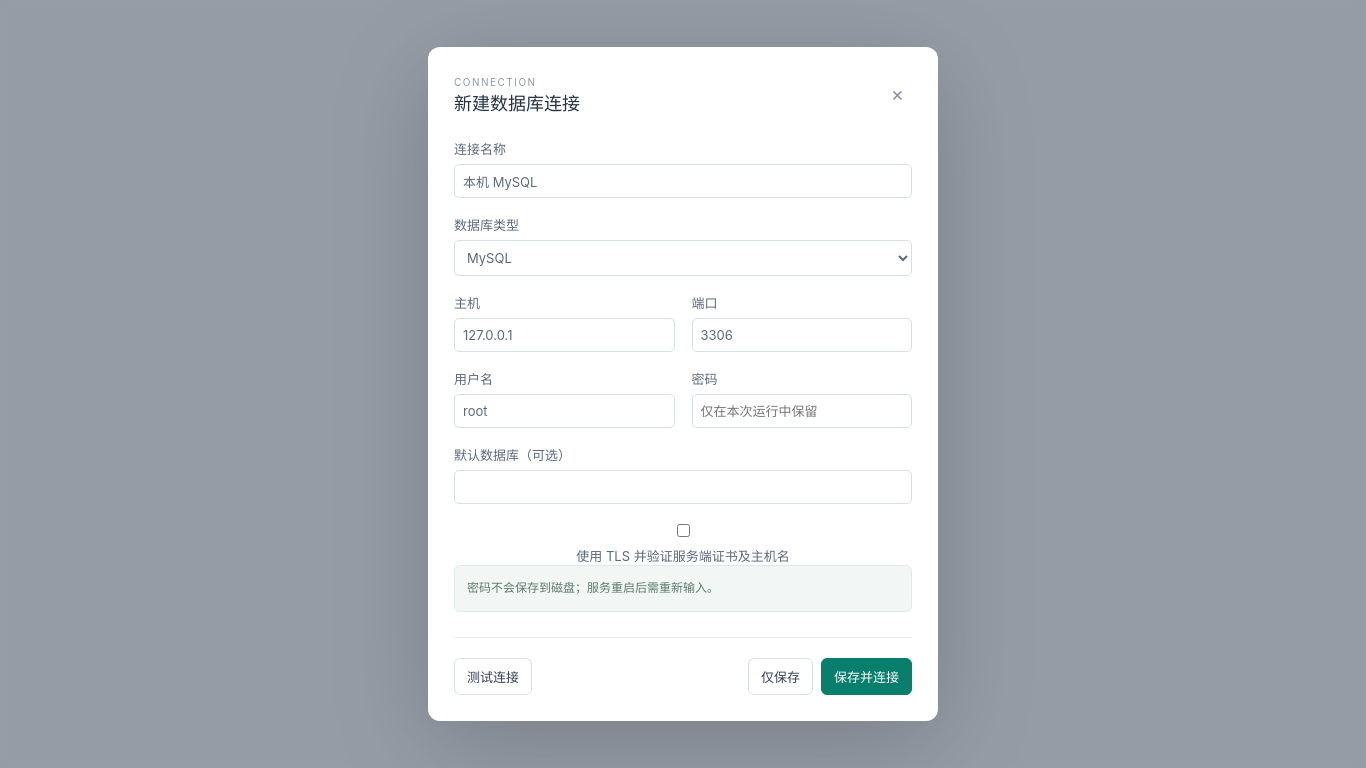
Scenario: connection types show only their relevant fields and correct default ports
This screenshot has width=1366, height=768.
Step 1. Select "SQLite" in the dropdown labelled "数据库类型" → (683, 258), box [454,240,912,276]
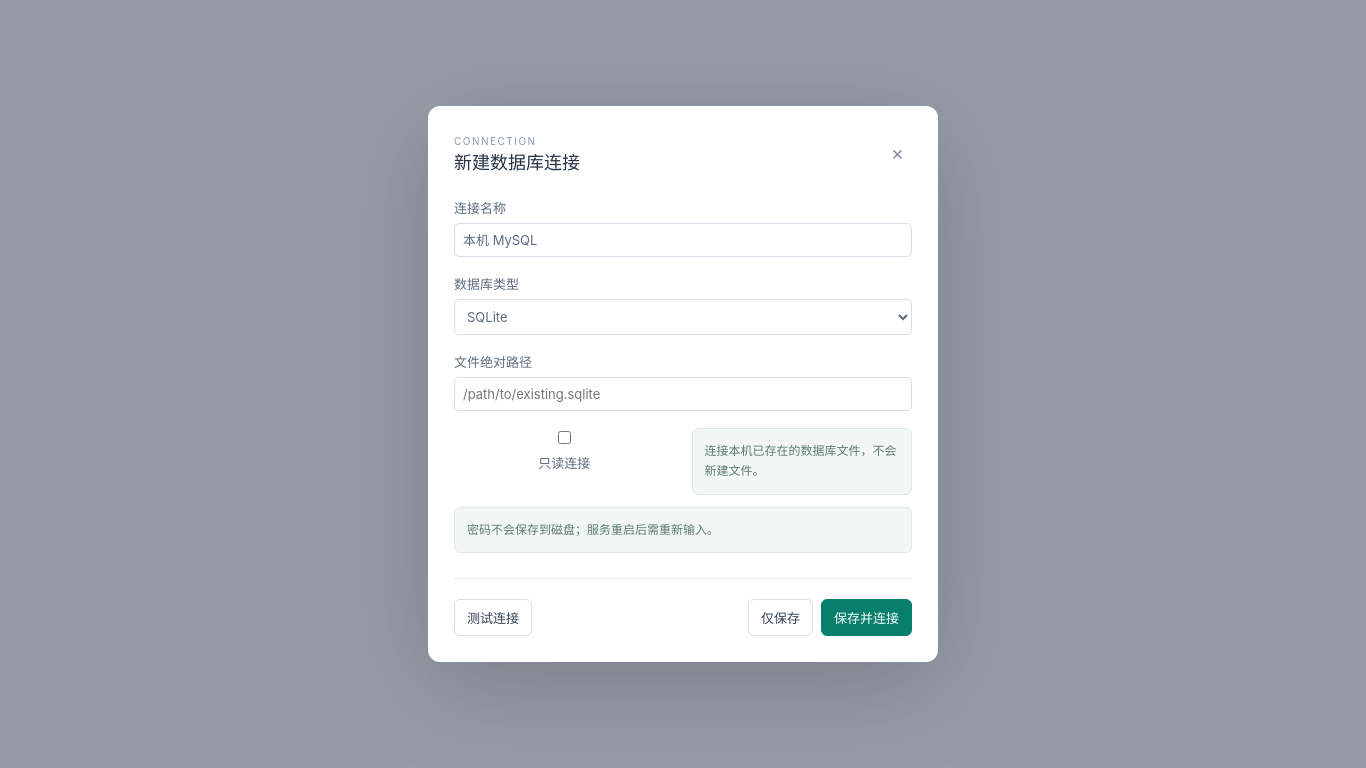
Expected: the field labelled "文件绝对路径" is shown, [454,377,912,411]
Now the label labelled "主机" is gone
Step 2. Select "PostgreSQL" in the dropdown labelled "数据库类型" → (683, 317), box [454,299,912,335]
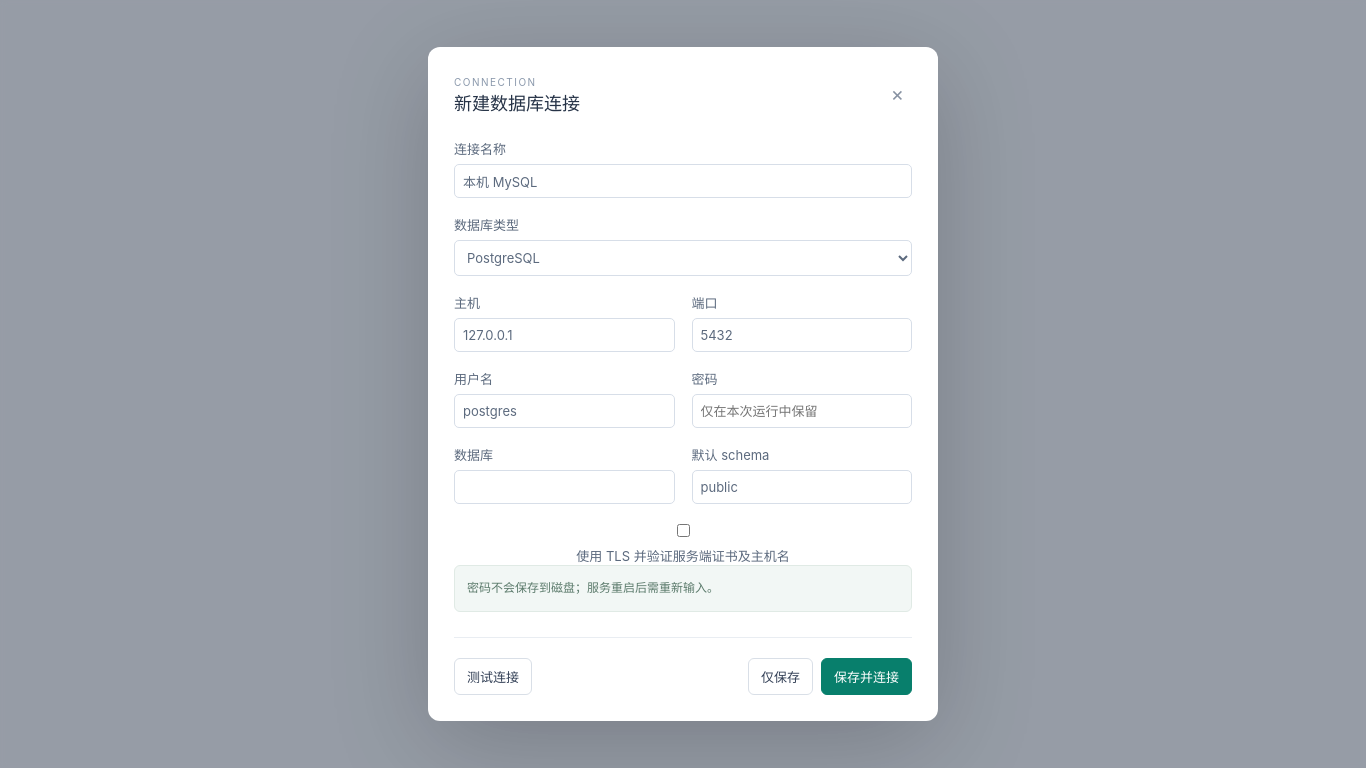
Expected: the field labelled "数据库" is shown, [454,470,674,504]
Now the number field labelled "端口" holds "5432", box [692,318,912,352]
Step 3. Select "MySQL" in the dropdown labelled "数据库类型" → (683, 258), box [454,240,912,276]
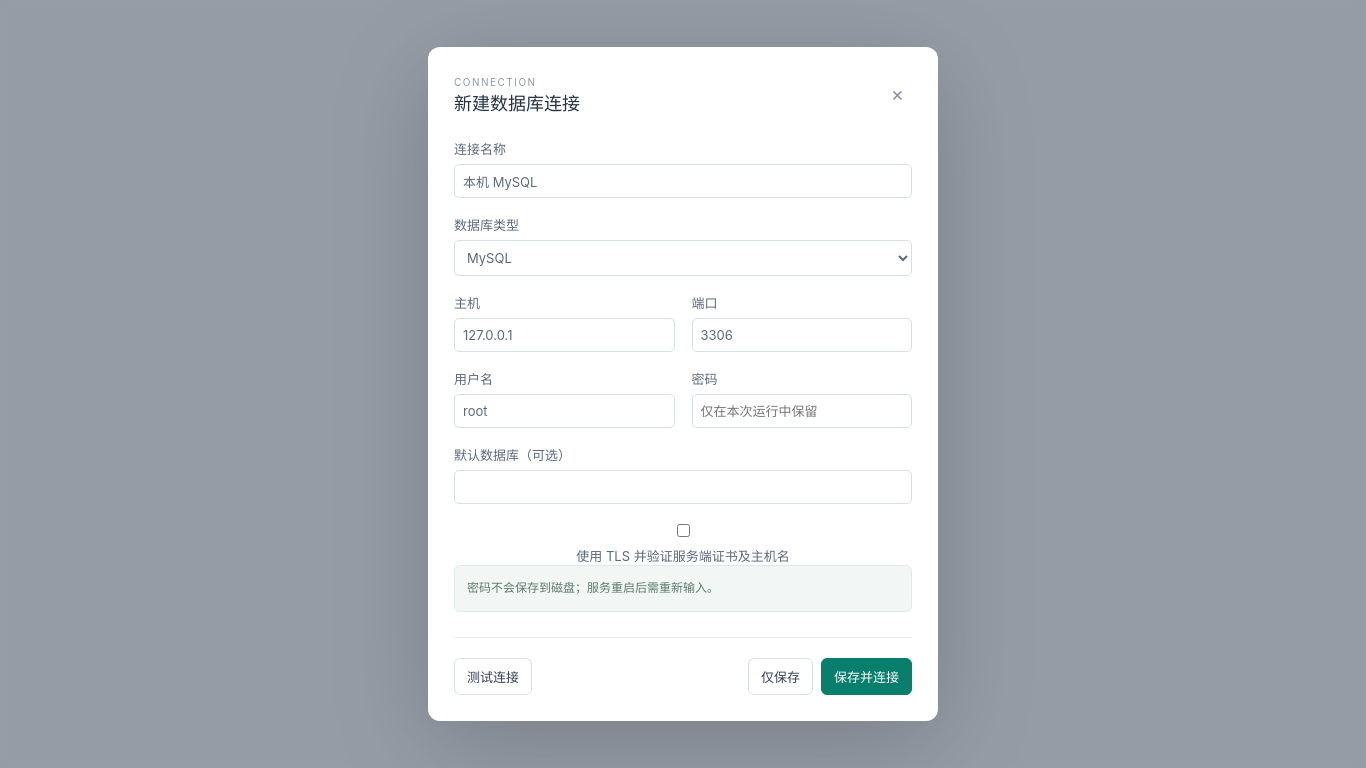
Now the number field labelled "端口" holds "3306", box [692,318,912,352]
